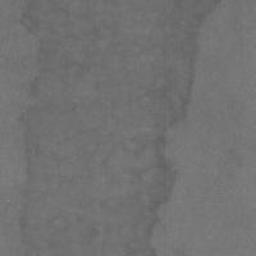Water spot: (17, 0, 224, 256)
